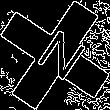N_SW: (24, 23, 86, 87)
